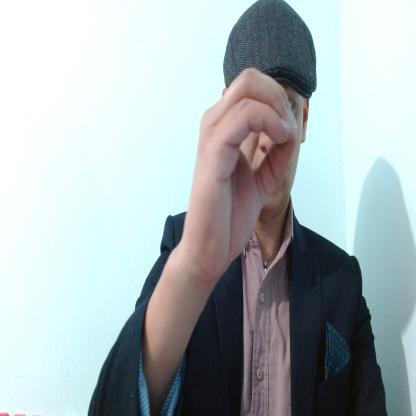O: (188, 64, 301, 270)
